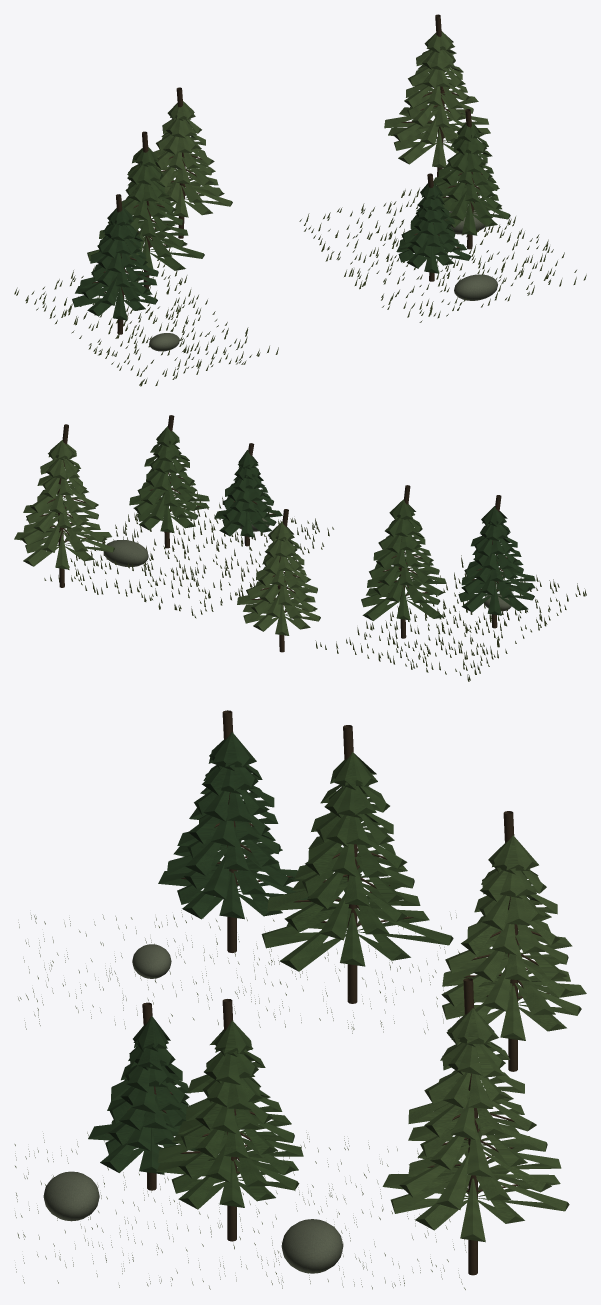
Rendered from woodland-bend-v1.glb.
3 views of the same model, one above another, from view 1: azimuth 30°, elevation 25°; view 2: azimuth 150°, elevation 25°; view 3: azimuth 270°, elevation 25° (orthographic). The views are drawn at different scales.
Visible parts, largest first — view 1: Pine canopy.005, Pine canopy, Grass blades, Pine canopy.002, Pine canopy.004, Pine canopy.001, Pine canopy.003, Verge boulder; view 2: Pine canopy.005, Pine canopy.001, Grass blades, Pine canopy.002, Pine canopy, Pine canopy.004, Pine canopy.003, Verge boulder, Tapered trunk.005, Tapered trunk.001; view 3: Pine canopy.005, Pine canopy.001, Pine canopy.002, Pine canopy.004, Pine canopy, Pine canopy.003, Verge boulder, Grass blades, Tapered trunk.001, Tapered trunk.005, Tapered trunk.002, Tapered trunk.004 (+1 smaller).
Part boxes in pixels (x1,y1,x2,y2): Pine canopy.005: (384, 31, 490, 167); Pine canopy: (72, 206, 158, 320); Grass blades: (14, 182, 586, 386); Pine canopy.002: (144, 101, 232, 217); Pine canopy.004: (434, 121, 510, 235); Pine canopy.001: (87, 147, 204, 270); Pine canopy.003: (396, 181, 470, 273); Verge boulder: (149, 206, 497, 351); Pine canopy.005: (14, 440, 114, 569); Pine canopy.001: (361, 499, 446, 620); Grass blades: (44, 491, 586, 681); Pine canopy.002: (237, 521, 320, 635); Pine canopy: (458, 506, 535, 615); Pine canopy.004: (129, 426, 209, 532); Pine canopy.003: (214, 450, 282, 537); Verge boulder: (103, 517, 511, 611); Tapered trunk.005: (40, 424, 87, 587); Tapered trunk.001: (378, 485, 427, 638); Pine canopy.005: (382, 1008, 569, 1242); Pine canopy.001: (261, 752, 453, 971); Pine canopy.002: (441, 835, 586, 1040); Pine canopy.004: (156, 1020, 303, 1209); Pine canopy: (158, 732, 309, 919); Pine canopy.003: (88, 1016, 202, 1174); Verge boulder: (43, 944, 343, 1273); Grass blades: (14, 910, 466, 1289); Tapered trunk.001: (293, 725, 413, 1003); Tapered trunk.005: (427, 978, 519, 1275); Tapered trunk.002: (464, 811, 571, 1071); Tapered trunk.004: (180, 999, 269, 1241).
Size of what is drawn, in the model's own units: 23.32 by 8.29 by 14.27.
6 materials, 6 textured.
